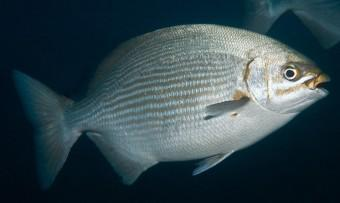fish: (13, 24, 331, 195)
